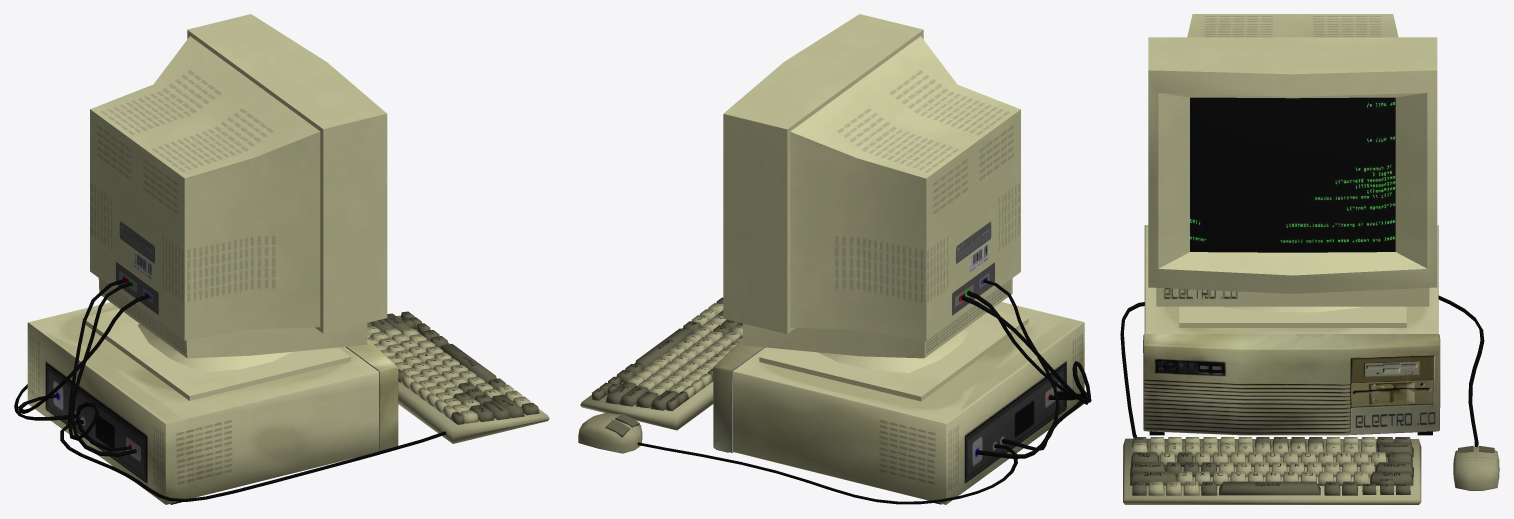
File: retro_crt_computer_1990s_desktop_pc.glb
3 views of the same model, side by side, from view 1: azimuth 30°, elevation 25°; view 2: azimuth 150°, elevation 25°; view 3: azimuth 270°, elevation 25° (orthographic). The views are drawn at different scales.
Parts seen in each view (by area): view 1: Object_6, Object_11, Object_4, Object_14, Object_22; view 2: Object_6, Object_11, Object_4, Object_14, Object_22, Object_9; view 3: Object_6, Object_7, Object_22, Object_4, Object_11, Object_9, Object_14.
Part boxes in pixels (x1,y1,x2,y2): Object_6: (82,14,387,400); Object_11: (27,302,378,504); Object_4: (367,311,549,443); Object_14: (14,278,446,501); Object_22: (346,339,398,451); Object_6: (723,14,1028,401); Object_11: (732,302,1084,504); Object_4: (580,297,742,430); Object_14: (637,279,1091,504); Object_22: (713,339,764,453); Object_9: (578,412,642,453); Object_6: (1148,14,1437,327); Object_7: (1190,97,1395,252); Object_22: (1143,334,1440,435); Object_4: (1123,437,1421,504); Object_11: (1144,225,1438,333); Object_9: (1453,445,1499,490); Object_14: (1120,295,1484,446).
Size of the model in its own units: 0.7459 by 0.5672 by 0.541.
7 materials, 6 textured.
